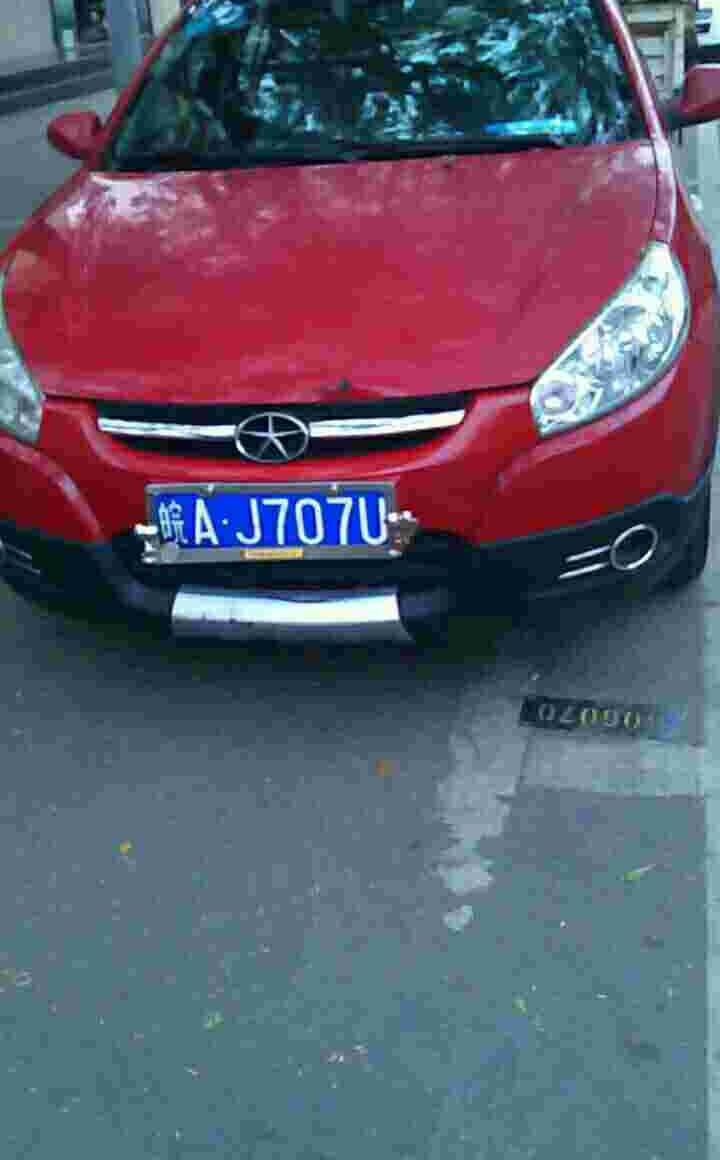car: (146, 489, 394, 562)
